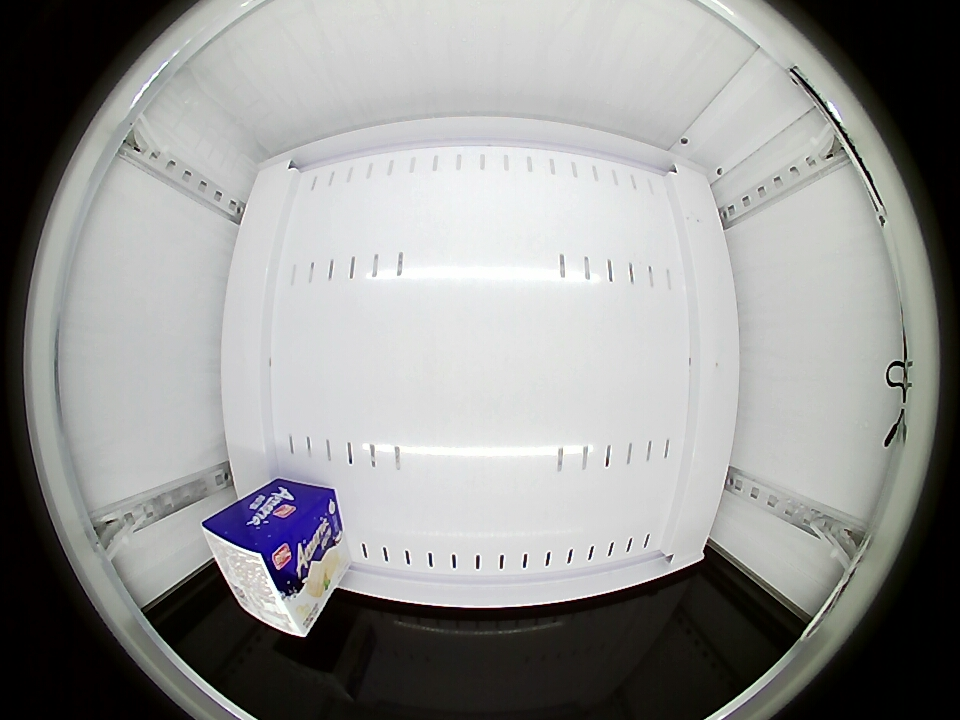meiniye: (203, 508, 320, 639)
